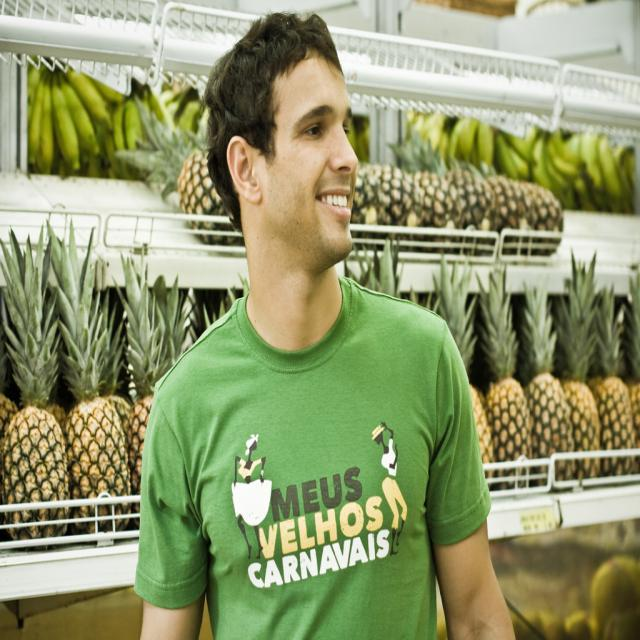Pineapple: (0, 219, 639, 558), (114, 90, 564, 241)
